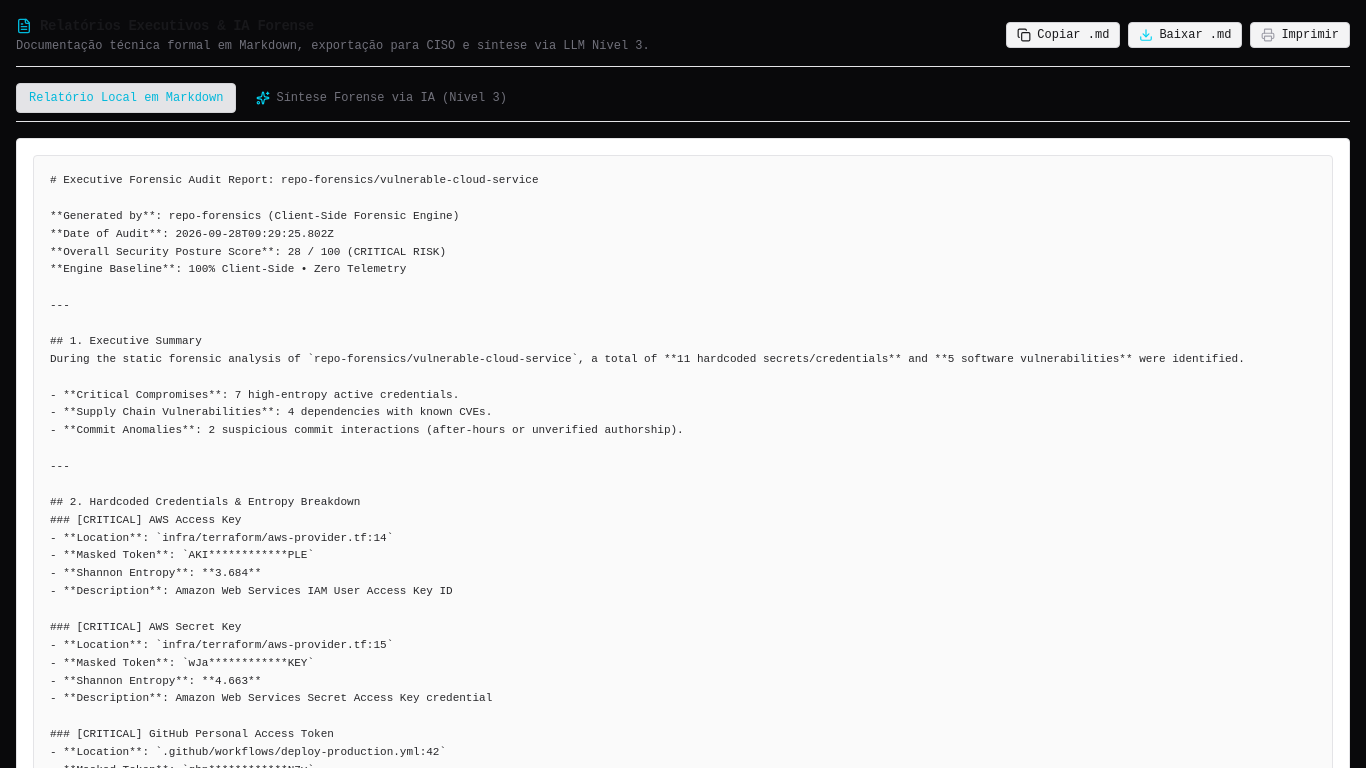
ReportsView and AI Key Guardrail (ReportsView.test.tsx) › enforces strict guardrail when AI key is missing in Nível 3 tab
Note: Switch to AI tab
Click the button "Síntese Forense via IA (Nível 3)".
click(382, 98)  # box [244,84,519,112]
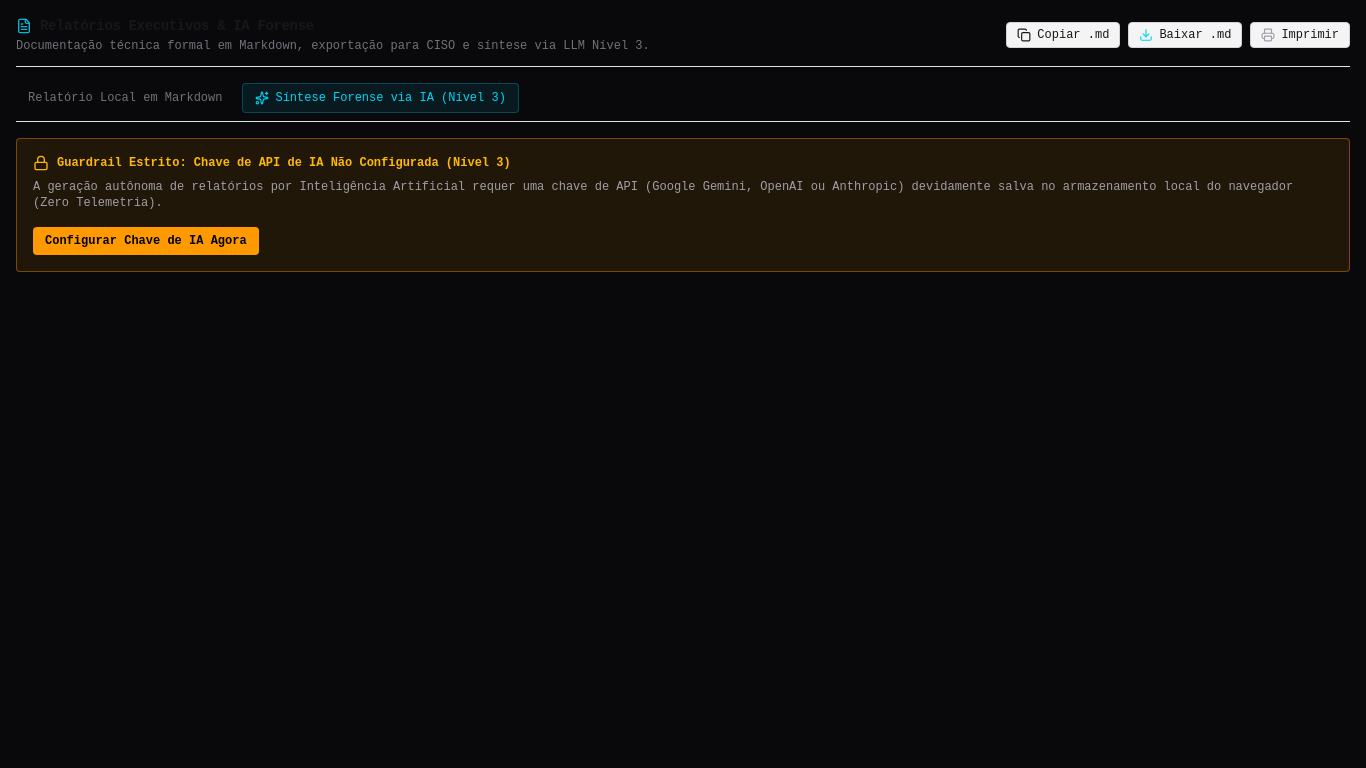
Result: the element with test id "ai-guardrail-banner" is shown at [16,138,1350,272]
Result: the element with test id "ai-guardrail-banner" shows "Guardrail Estrito: Chave de API de IA Não Configurada" at [57,156,511,170]
